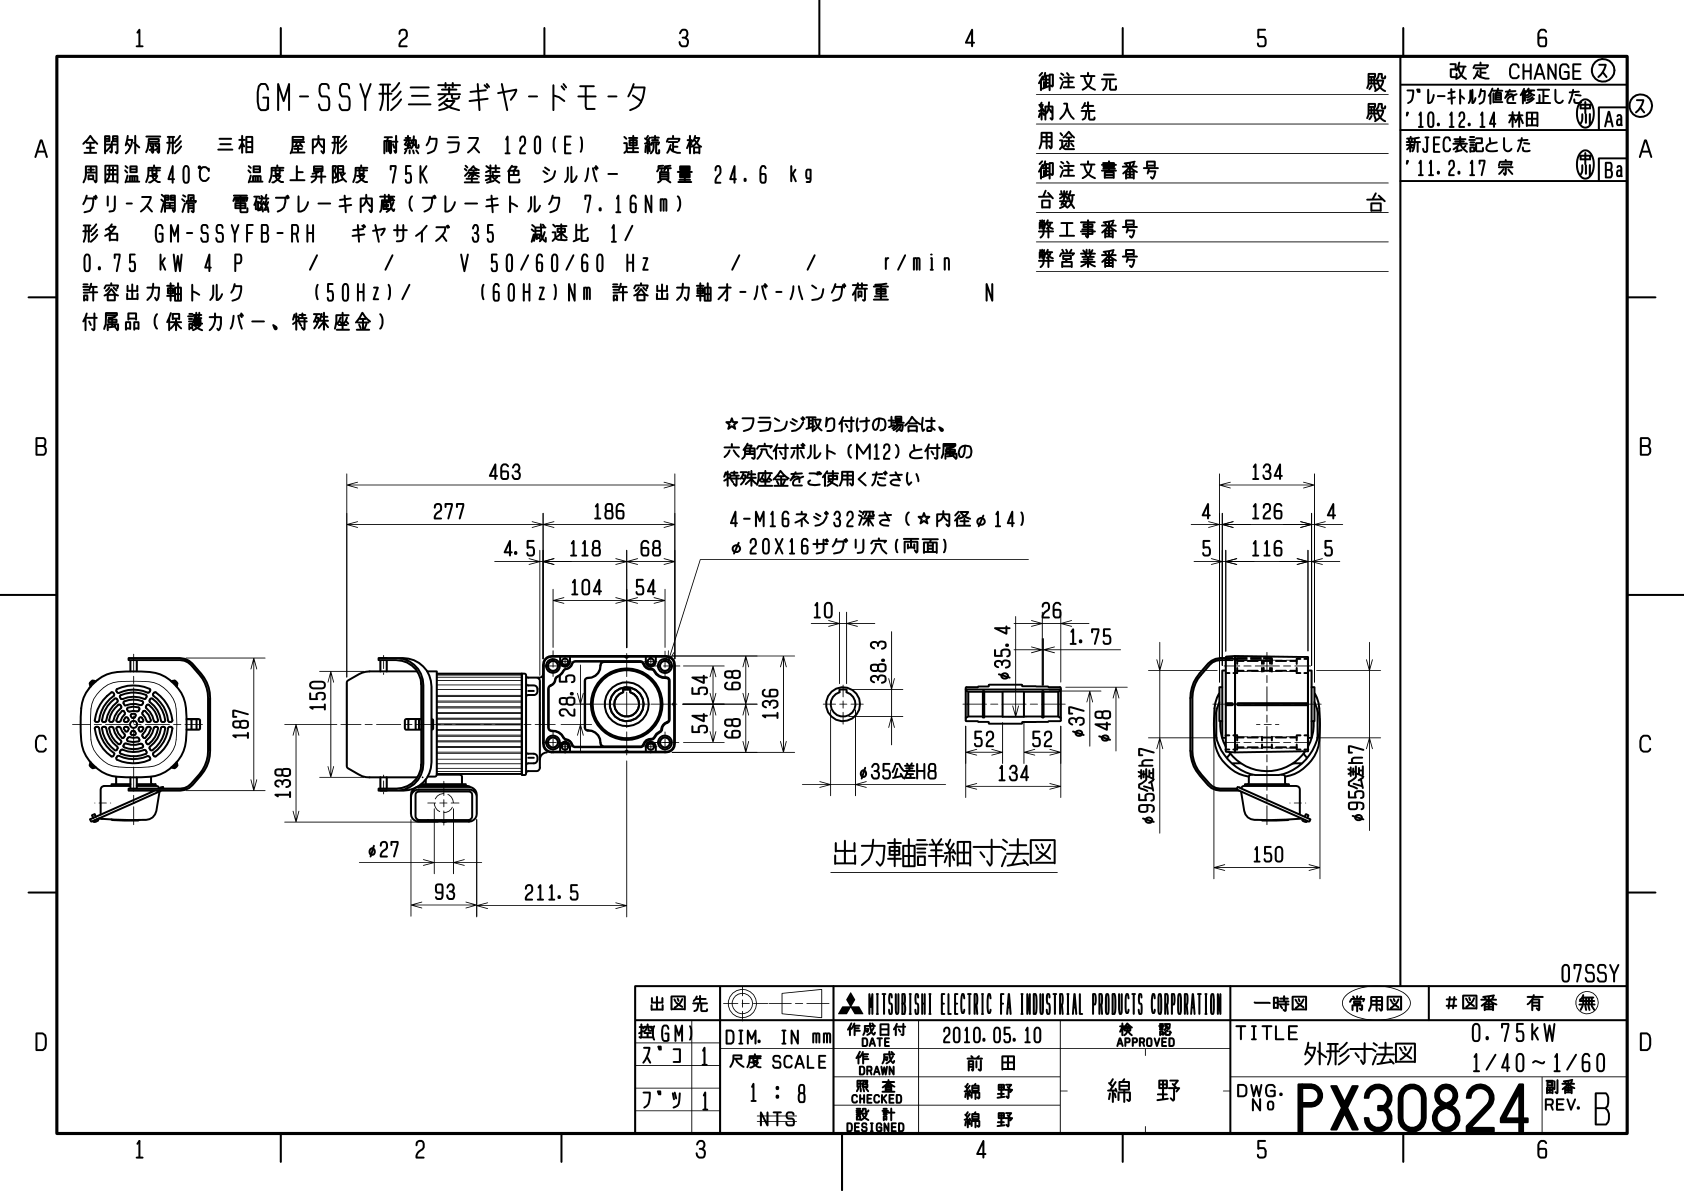GM_SSY_手動解放_三相: (15, 6, 1684, 1191)
